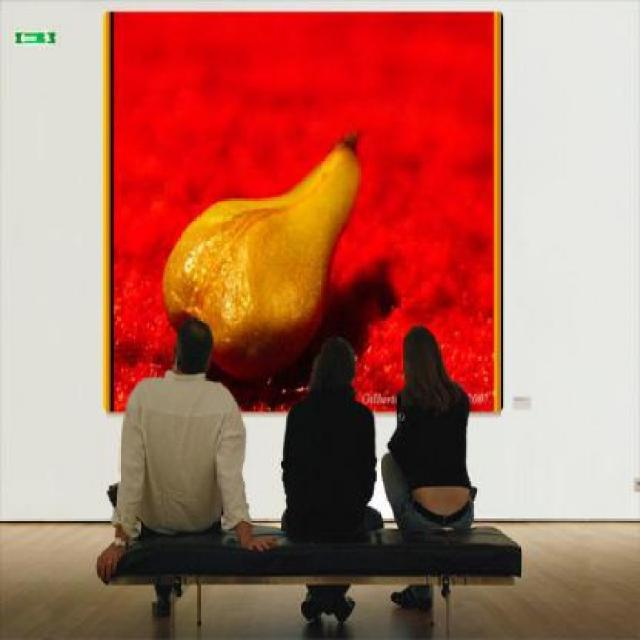Pear: (168, 142, 362, 384)
